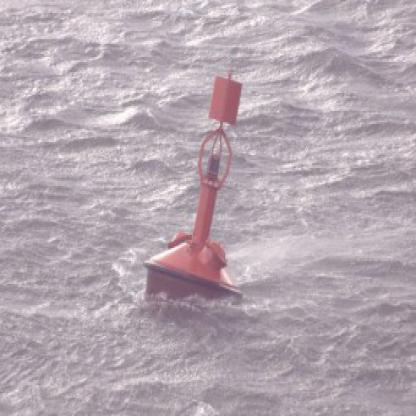buoy: (137, 46, 253, 320)
